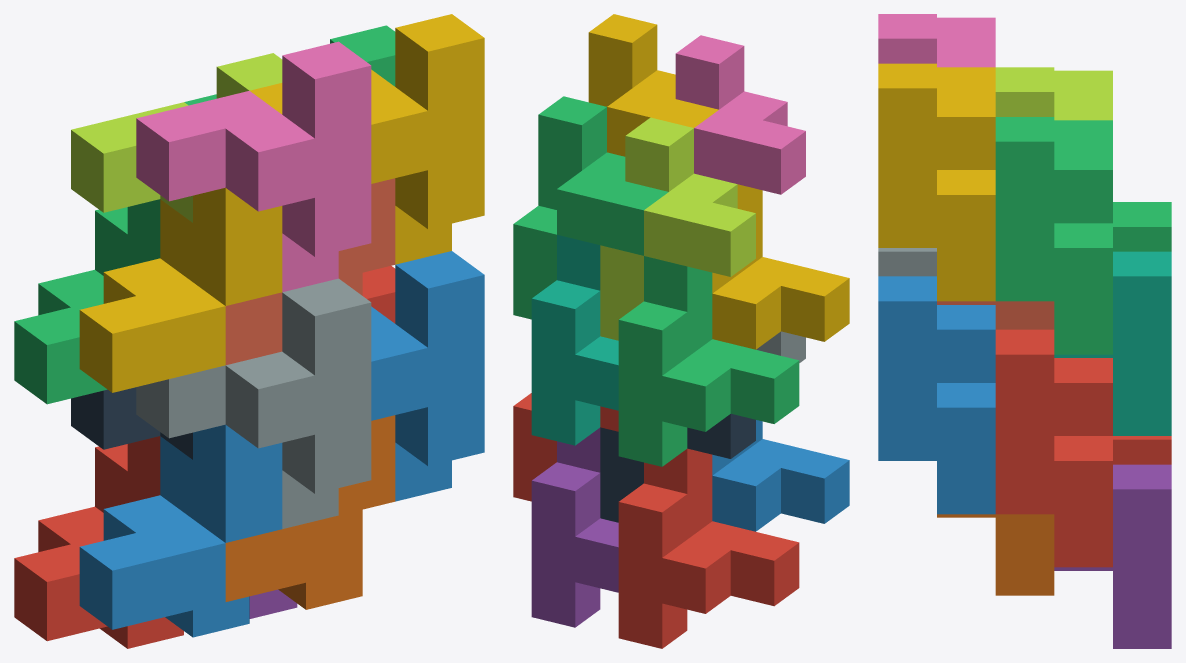
Rendered from tiling.obj.
3 renders of one model, left to right at view 1: azimuth 30°, elevation 25°; view 2: azimuth 150°, elevation 25°; view 3: azimuth 270°, elevation 25°, orthographic. The views are drawn at different scales.
Parts seen in each view (by area): view 1: copy_2_domain_4, copy_2_domain_2, copy_1_domain_2, copy_1_domain_4, copy_2_domain_8, copy_2_domain_6, copy_1_domain_1, copy_1_domain_6, copy_1_domain_3, copy_2_domain_3, copy_1_domain_8, copy_2_domain_1 (+3 smaller); view 2: copy_1_domain_3, copy_1_domain_1, copy_2_domain_7, copy_2_domain_3, copy_1_domain_7, copy_1_domain_5, copy_2_domain_4, copy_1_domain_4, copy_1_domain_2, copy_2_domain_8, copy_2_domain_1, copy_2_domain_5 (+1 smaller); view 3: copy_2_domain_7, copy_2_domain_8, copy_2_domain_5, copy_2_domain_6, copy_1_domain_5, copy_1_domain_7, copy_2_domain_3, copy_2_domain_4, copy_1_domain_6, copy_1_domain_3, copy_1_domain_8, copy_1_domain_1 (+1 smaller).
Boxes of the visible parts, box(x1,y1,x2,y2) form: copy_2_domain_4: box(136, 41, 371, 292); copy_2_domain_2: box(136, 278, 371, 528); copy_1_domain_2: box(79, 424, 282, 637); copy_1_domain_4: box(79, 187, 282, 392); copy_2_domain_8: box(250, 14, 484, 264); copy_2_domain_6: box(371, 251, 484, 501); copy_1_domain_1: box(14, 436, 183, 648); copy_1_domain_6: box(225, 415, 395, 609); copy_1_domain_3: box(14, 199, 160, 404); copy_2_domain_3: box(71, 53, 282, 222); copy_1_domain_8: box(225, 178, 395, 364); copy_2_domain_1: box(71, 387, 192, 459); copy_1_domain_3: box(618, 256, 799, 466); copy_1_domain_1: box(618, 448, 799, 648); copy_2_domain_7: box(513, 96, 668, 319); copy_2_domain_3: box(600, 117, 755, 340); copy_1_domain_7: box(531, 234, 618, 445); copy_1_domain_5: box(531, 427, 618, 627); copy_2_domain_4: box(675, 35, 805, 194); copy_1_domain_4: box(712, 184, 849, 349); copy_1_domain_2: box(712, 420, 849, 531); copy_2_domain_8: box(588, 14, 718, 156); copy_2_domain_1: box(600, 413, 755, 522); copy_2_domain_5: box(513, 393, 618, 501); copy_2_domain_7: box(995, 117, 1112, 354); copy_2_domain_8: box(878, 63, 995, 301); copy_2_domain_5: box(995, 329, 1112, 567); copy_2_domain_6: box(878, 276, 995, 514); copy_1_domain_5: box(1054, 464, 1171, 648); copy_1_domain_7: box(1054, 251, 1171, 435); copy_2_domain_3: box(995, 67, 1112, 120); copy_2_domain_4: box(878, 14, 995, 67); copy_1_domain_6: box(937, 514, 1054, 595); copy_1_domain_3: box(1113, 202, 1171, 251); copy_1_domain_8: box(937, 301, 1054, 329); copy_1_domain_1: box(1113, 436, 1171, 464).
Bounding box in the file's own units: 6 × 11 × 5.
